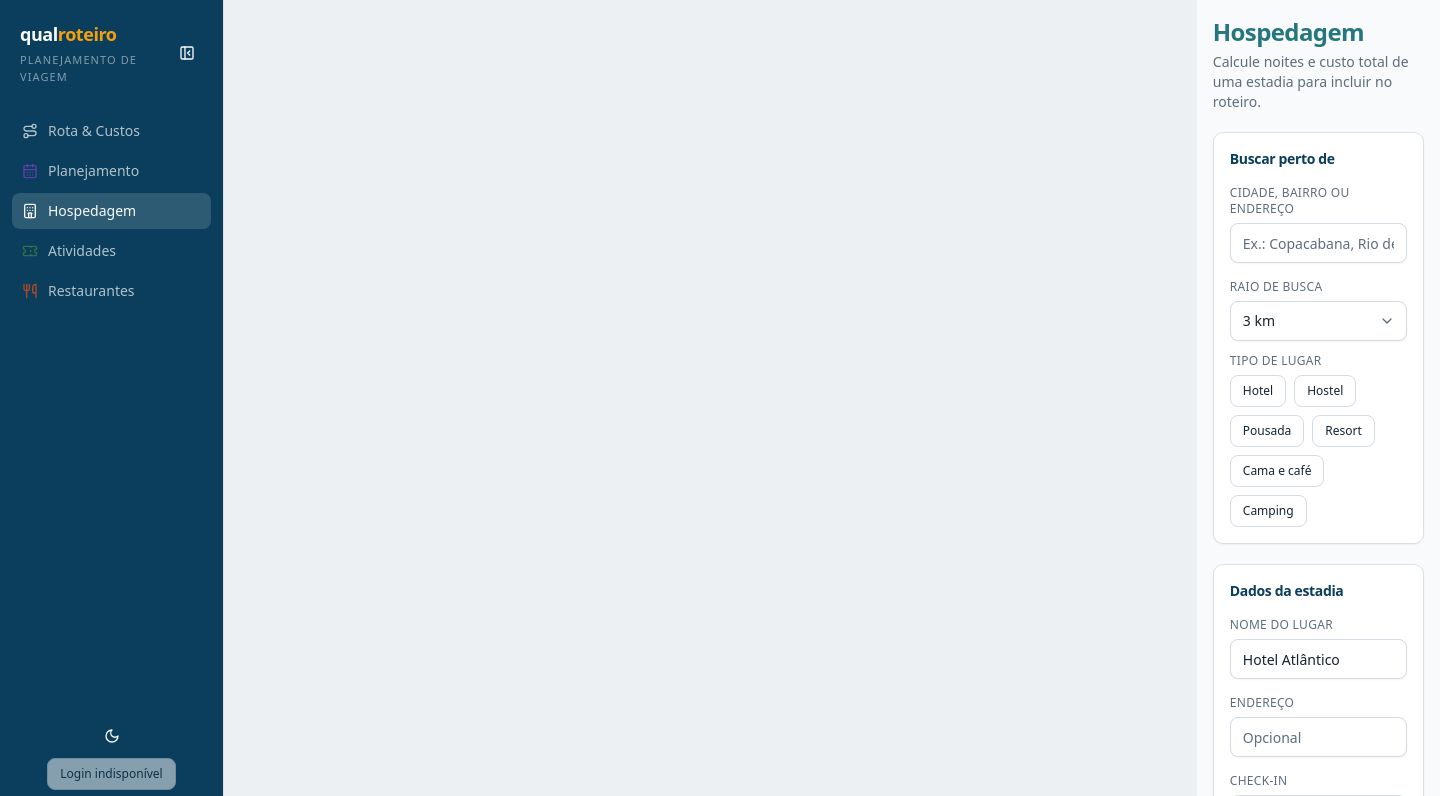
Hospedagem module › keeps the manual calculator usable when nearby search fails
The width and height of the screenshot is (1440, 796).
Type "Rio" into the dropdown labelled "Cidade, bairro ou endereço" at x=1318, y=243, box [1230,223,1407,263]
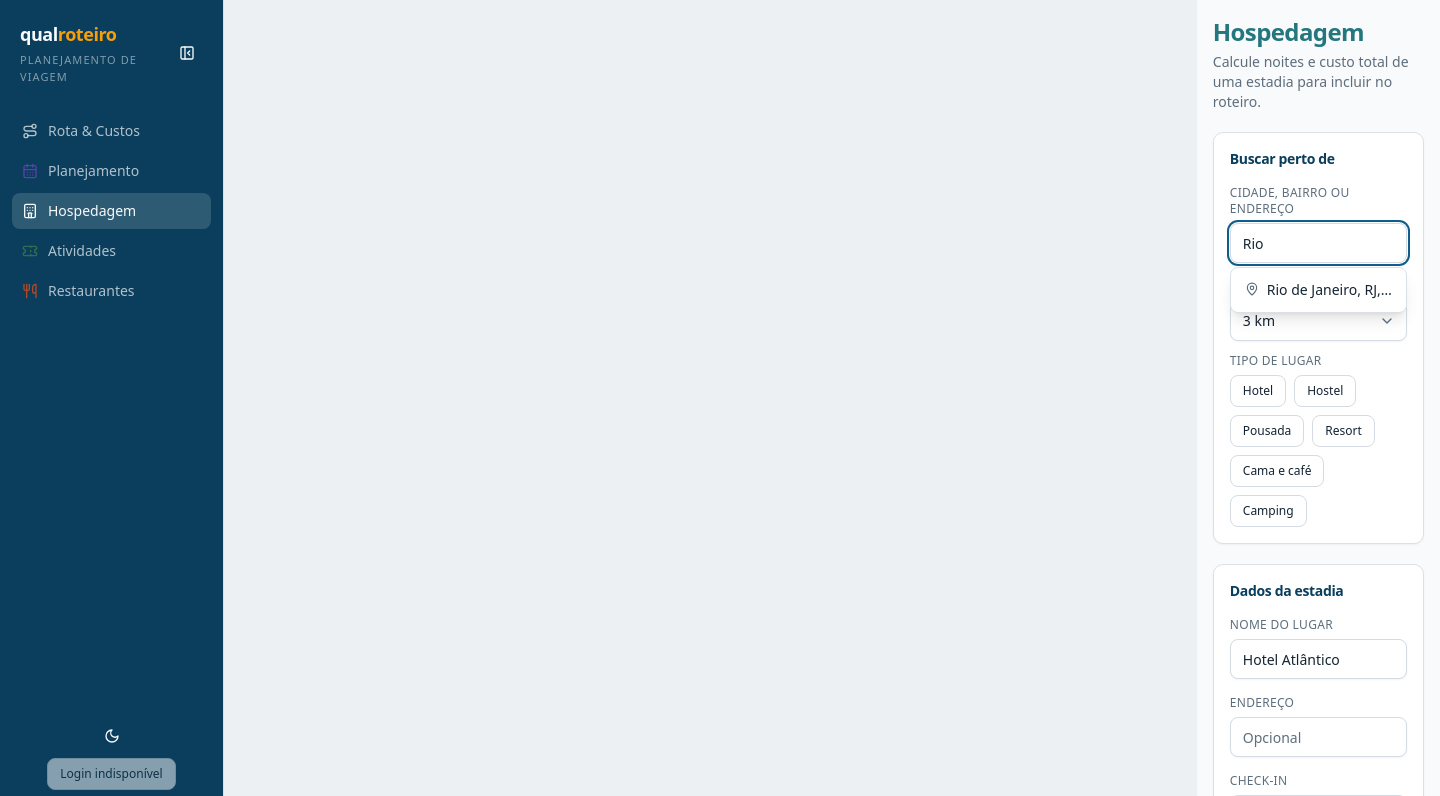
Expected: the option "Rio de Janeiro, RJ, Brasil" is shown
Click the option "Rio de Janeiro, RJ, Brasil" at x=1318, y=290, box [1235,272,1402,308]
(page scrolled)
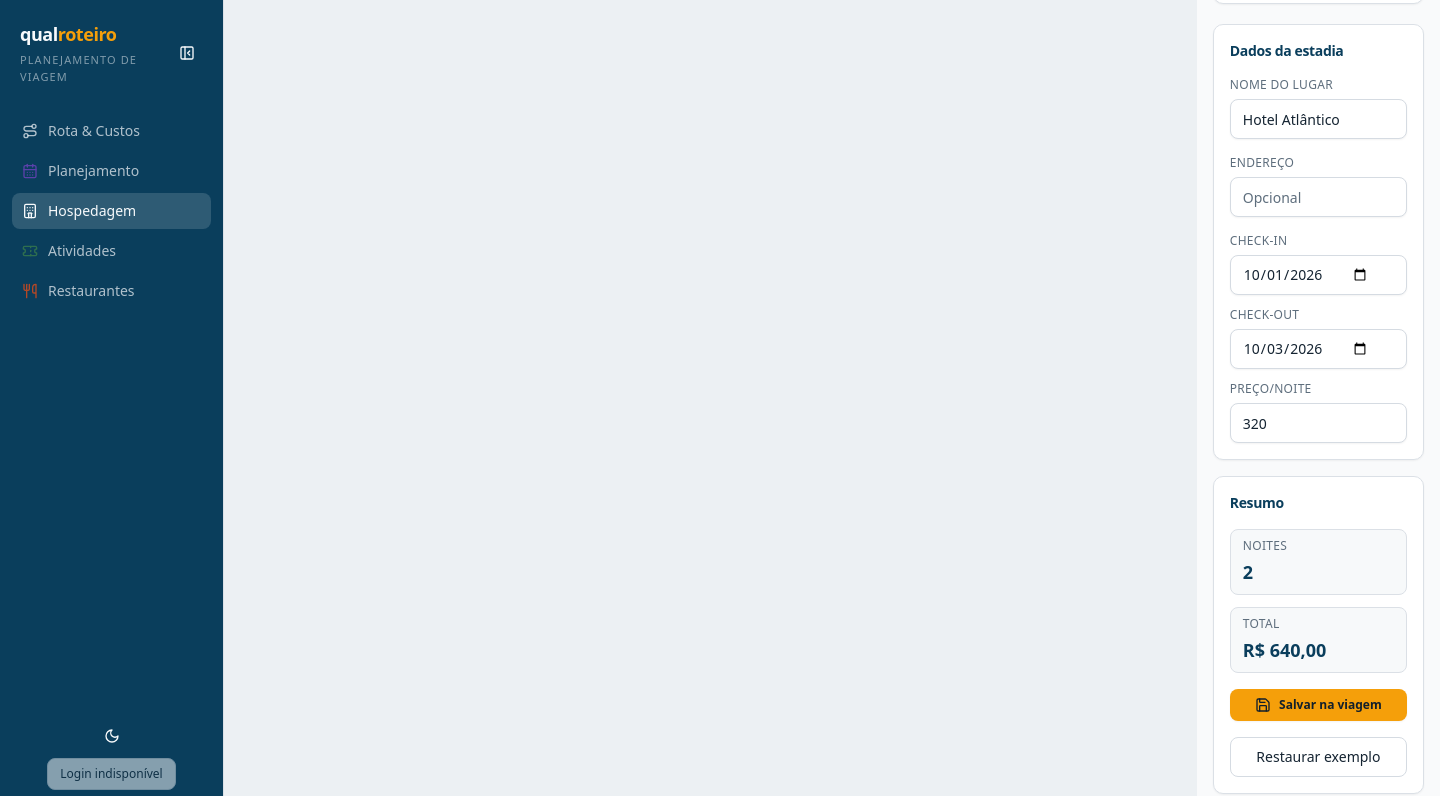
Replace the text in the number field labelled "Preço/noite" with "150" at x=1318, y=423, box [1230,403,1407,443]
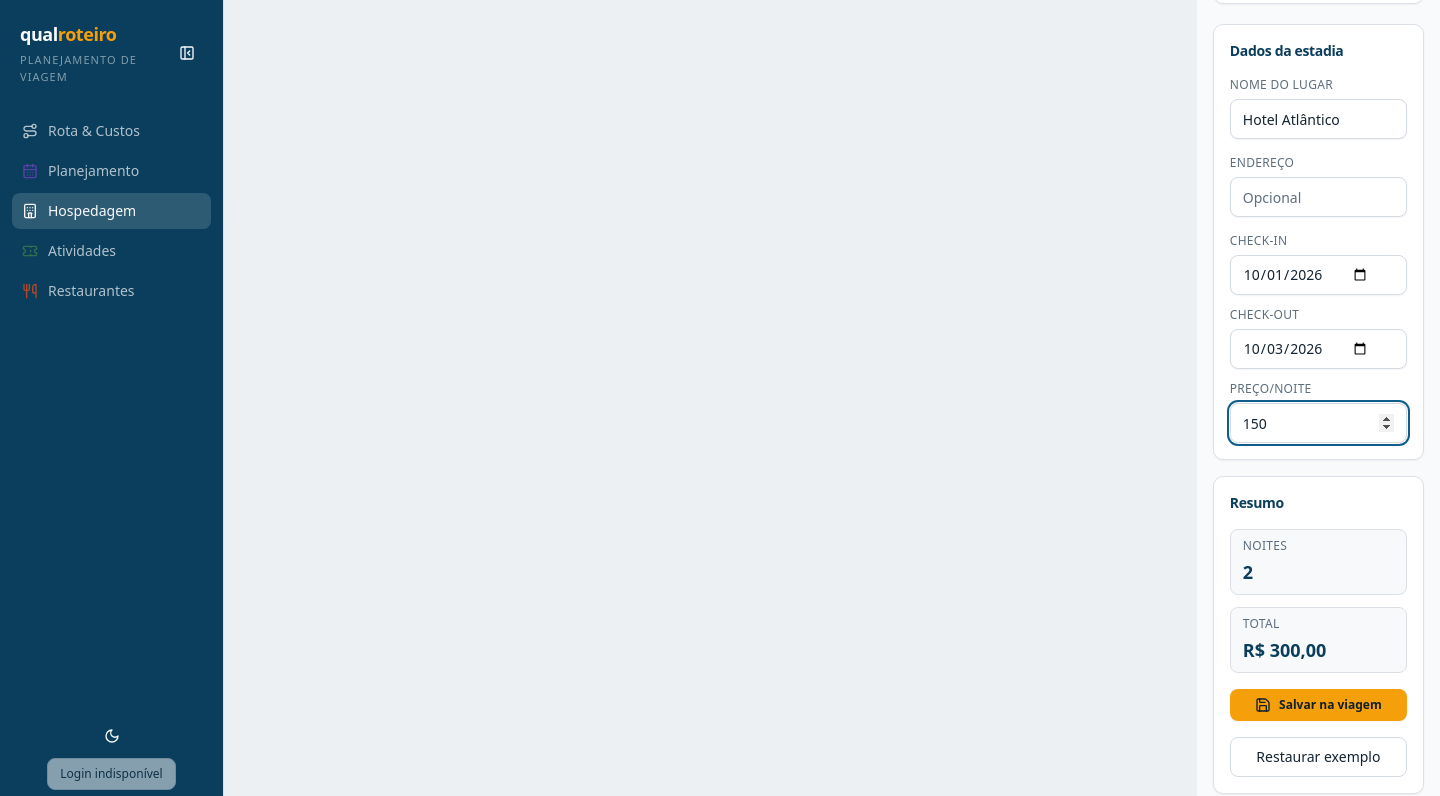
Expected: the text "R$ 300,00" is shown, [1243,638,1326,662]
